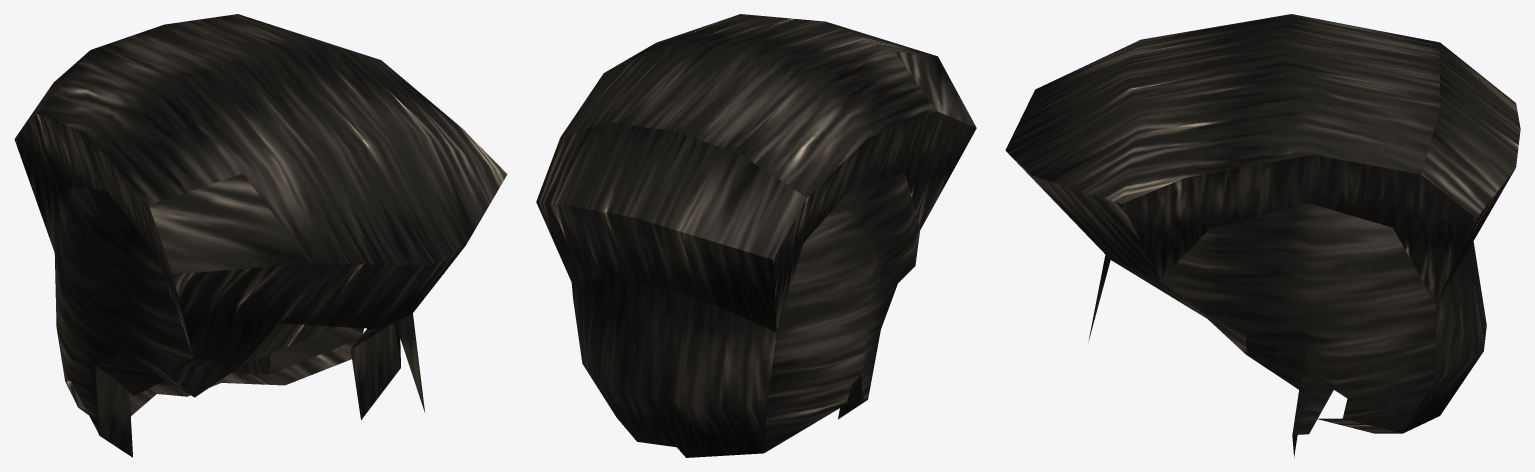
The model's file is hair man 2.FBX.
3 renders of one model, left to right at view 1: azimuth 30°, elevation 25°; view 2: azimuth 150°, elevation 25°; view 3: azimuth 270°, elevation 25°, orthographic. The views are drawn at different scales.
Visible parts, largest first — view 1: Hair man 2; view 2: Hair man 2; view 3: Hair man 2.
Part boxes in pixels (x1,y1,x2,y2): Hair man 2: (14, 14, 507, 457); Hair man 2: (536, 14, 976, 457); Hair man 2: (1005, 14, 1520, 457).
Size of the model in its own units: 40.79 by 46.12 by 59.17.
